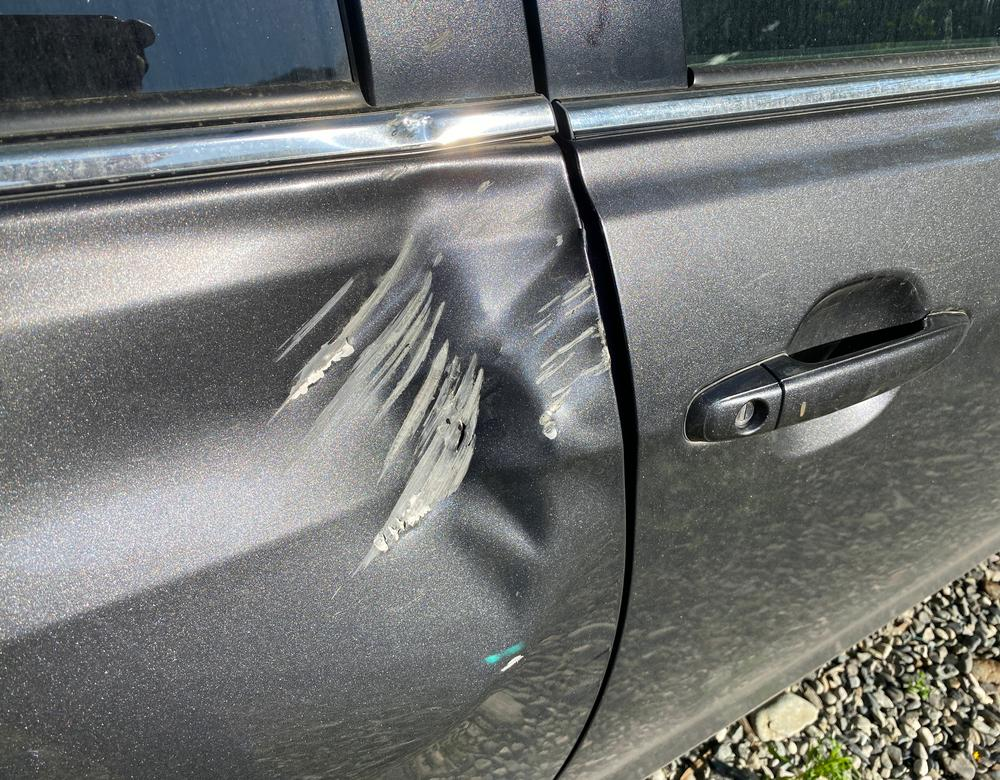dent: (247, 155, 615, 599)
